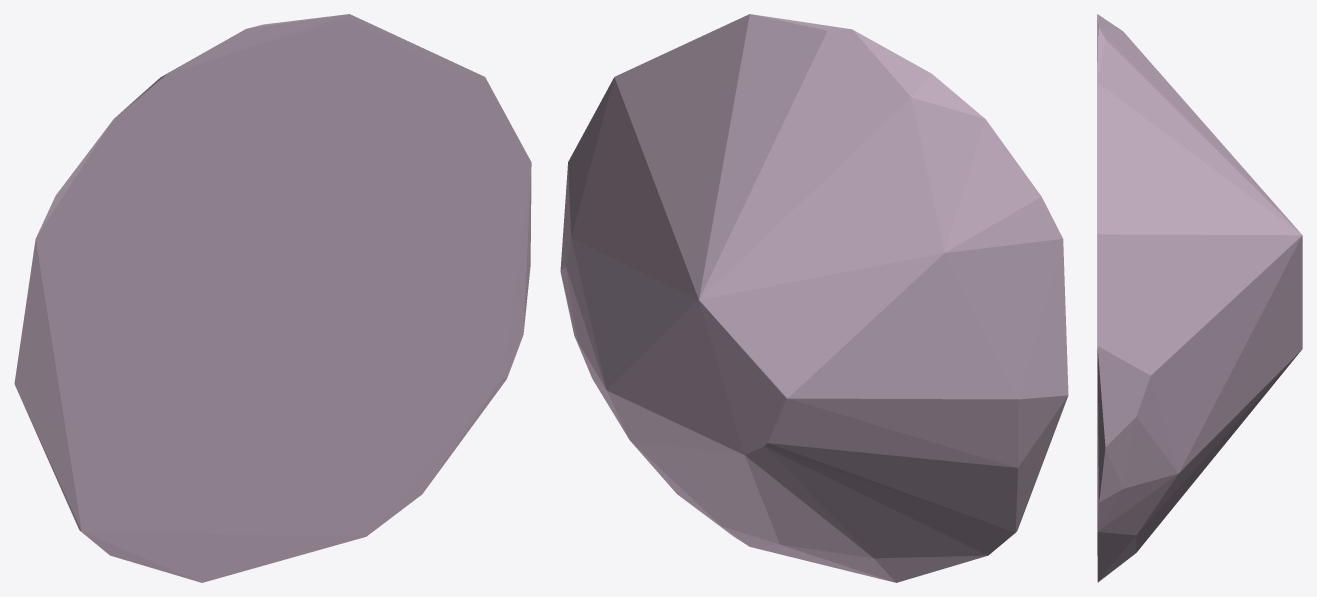
File: kitchenware_bowl_d01.glb
3 renders of one model, left to right at view 1: azimuth 30°, elevation 25°; view 2: azimuth 150°, elevation 25°; view 3: azimuth 270°, elevation 25°, orthographic. The views are drawn at different scales.
Visible parts, largest first — view 1: geometry_0; view 2: geometry_0; view 3: geometry_0.
Boxes of the visible parts, x1,y1,x2,y2 form: geometry_0: (14, 14, 531, 582); geometry_0: (560, 14, 1068, 582); geometry_0: (1097, 14, 1302, 582).
Bounding box in the file's own units: 0.4631 × 0.4693 × 0.1717.
